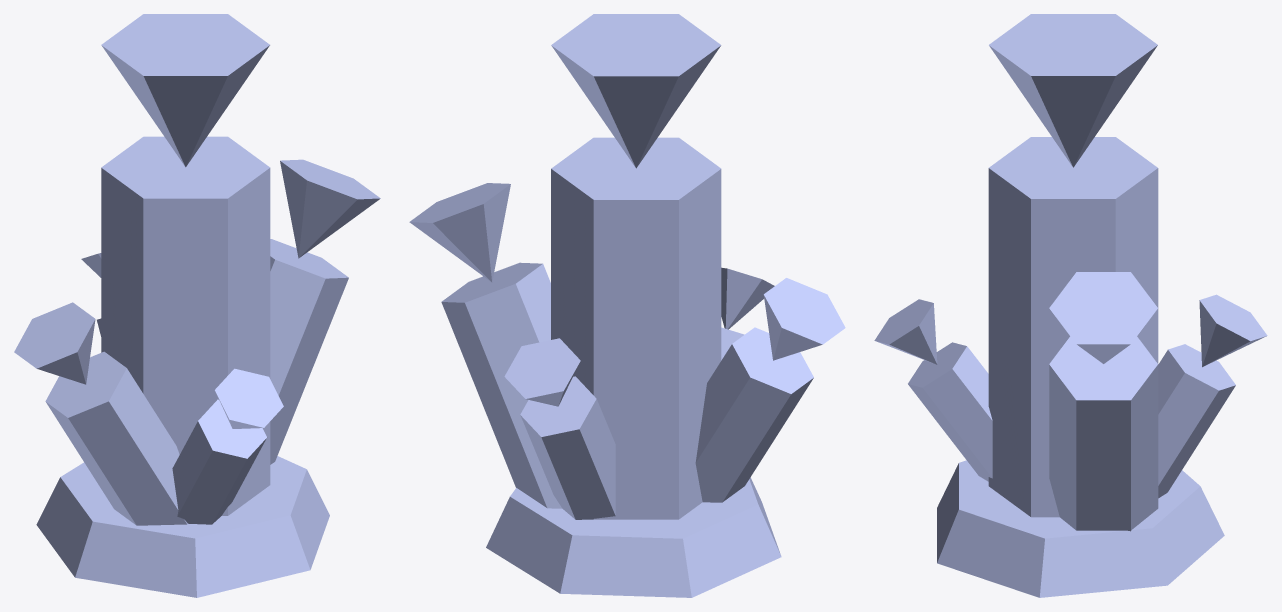
Rendered from shard.fbx.
3 renders of one model, left to right at view 1: azimuth 30°, elevation 25°; view 2: azimuth 150°, elevation 25°; view 3: azimuth 270°, elevation 25°, orthographic.
Visible parts, largest first — view 1: shard.Main; view 2: shard.Main; view 3: shard.Main.
Boxes of the visible parts, box(x1,y1,x2,y2) form: shard.Main: box(14, 14, 380, 597); shard.Main: box(409, 14, 845, 597); shard.Main: box(874, 14, 1267, 597).
Size of the model in its own units: 1.43 by 1.79 by 1.3.
